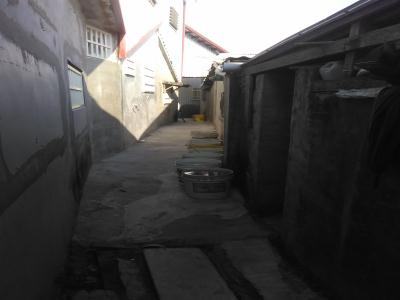bucket: (178, 165, 238, 204)
